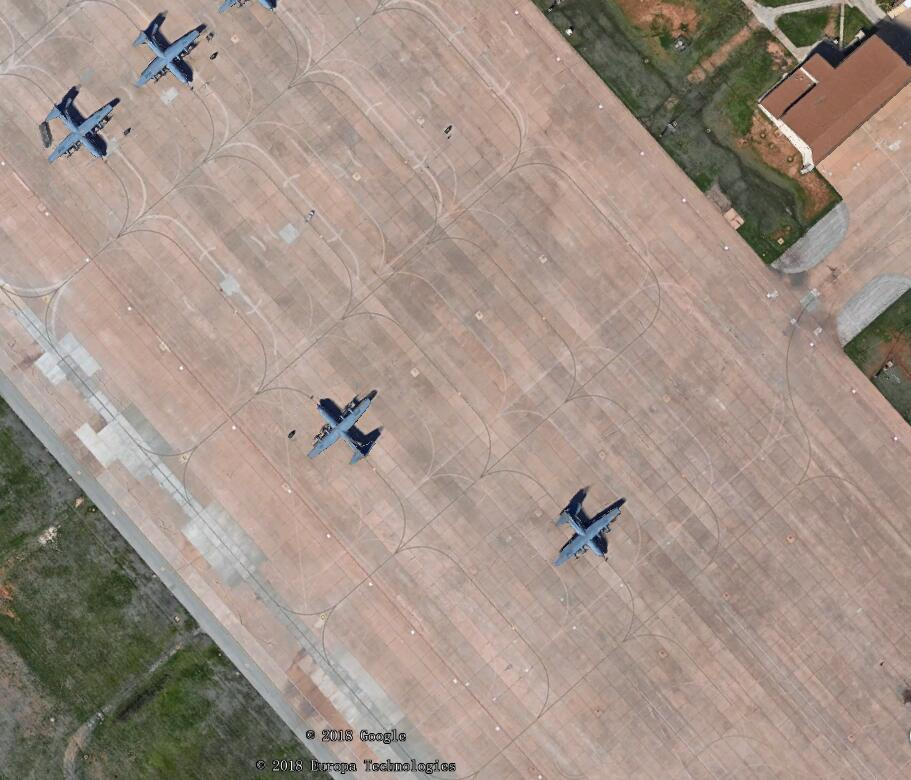A2: (550, 485, 633, 571), (304, 385, 386, 468), (127, 13, 211, 92), (38, 85, 122, 161)
